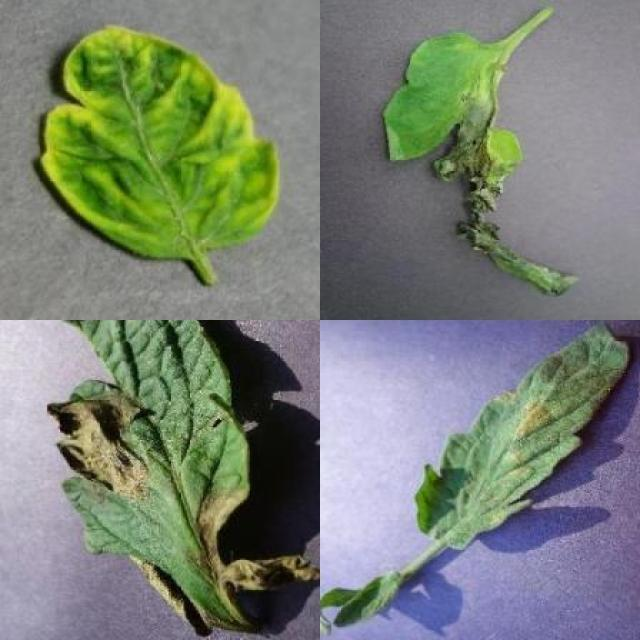Late Blight: (46, 320, 320, 637), (382, 31, 581, 300)
Leaf Mold: (414, 320, 632, 551)
Yellow Leaf Curl Virus: (40, 23, 280, 264)
